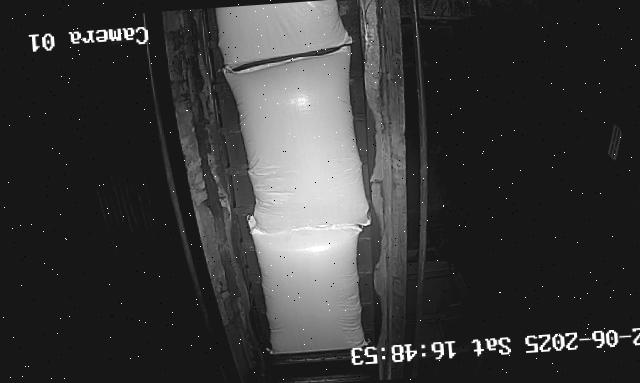bag: (220, 45, 370, 234), (246, 205, 365, 354), (214, 0, 353, 66)
